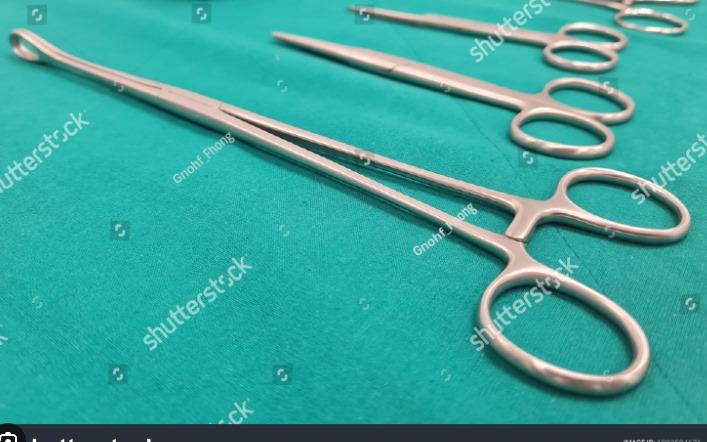Sponge Holding Forceps: (3, 21, 681, 397)
Straight Mayo: (267, 16, 633, 155)
